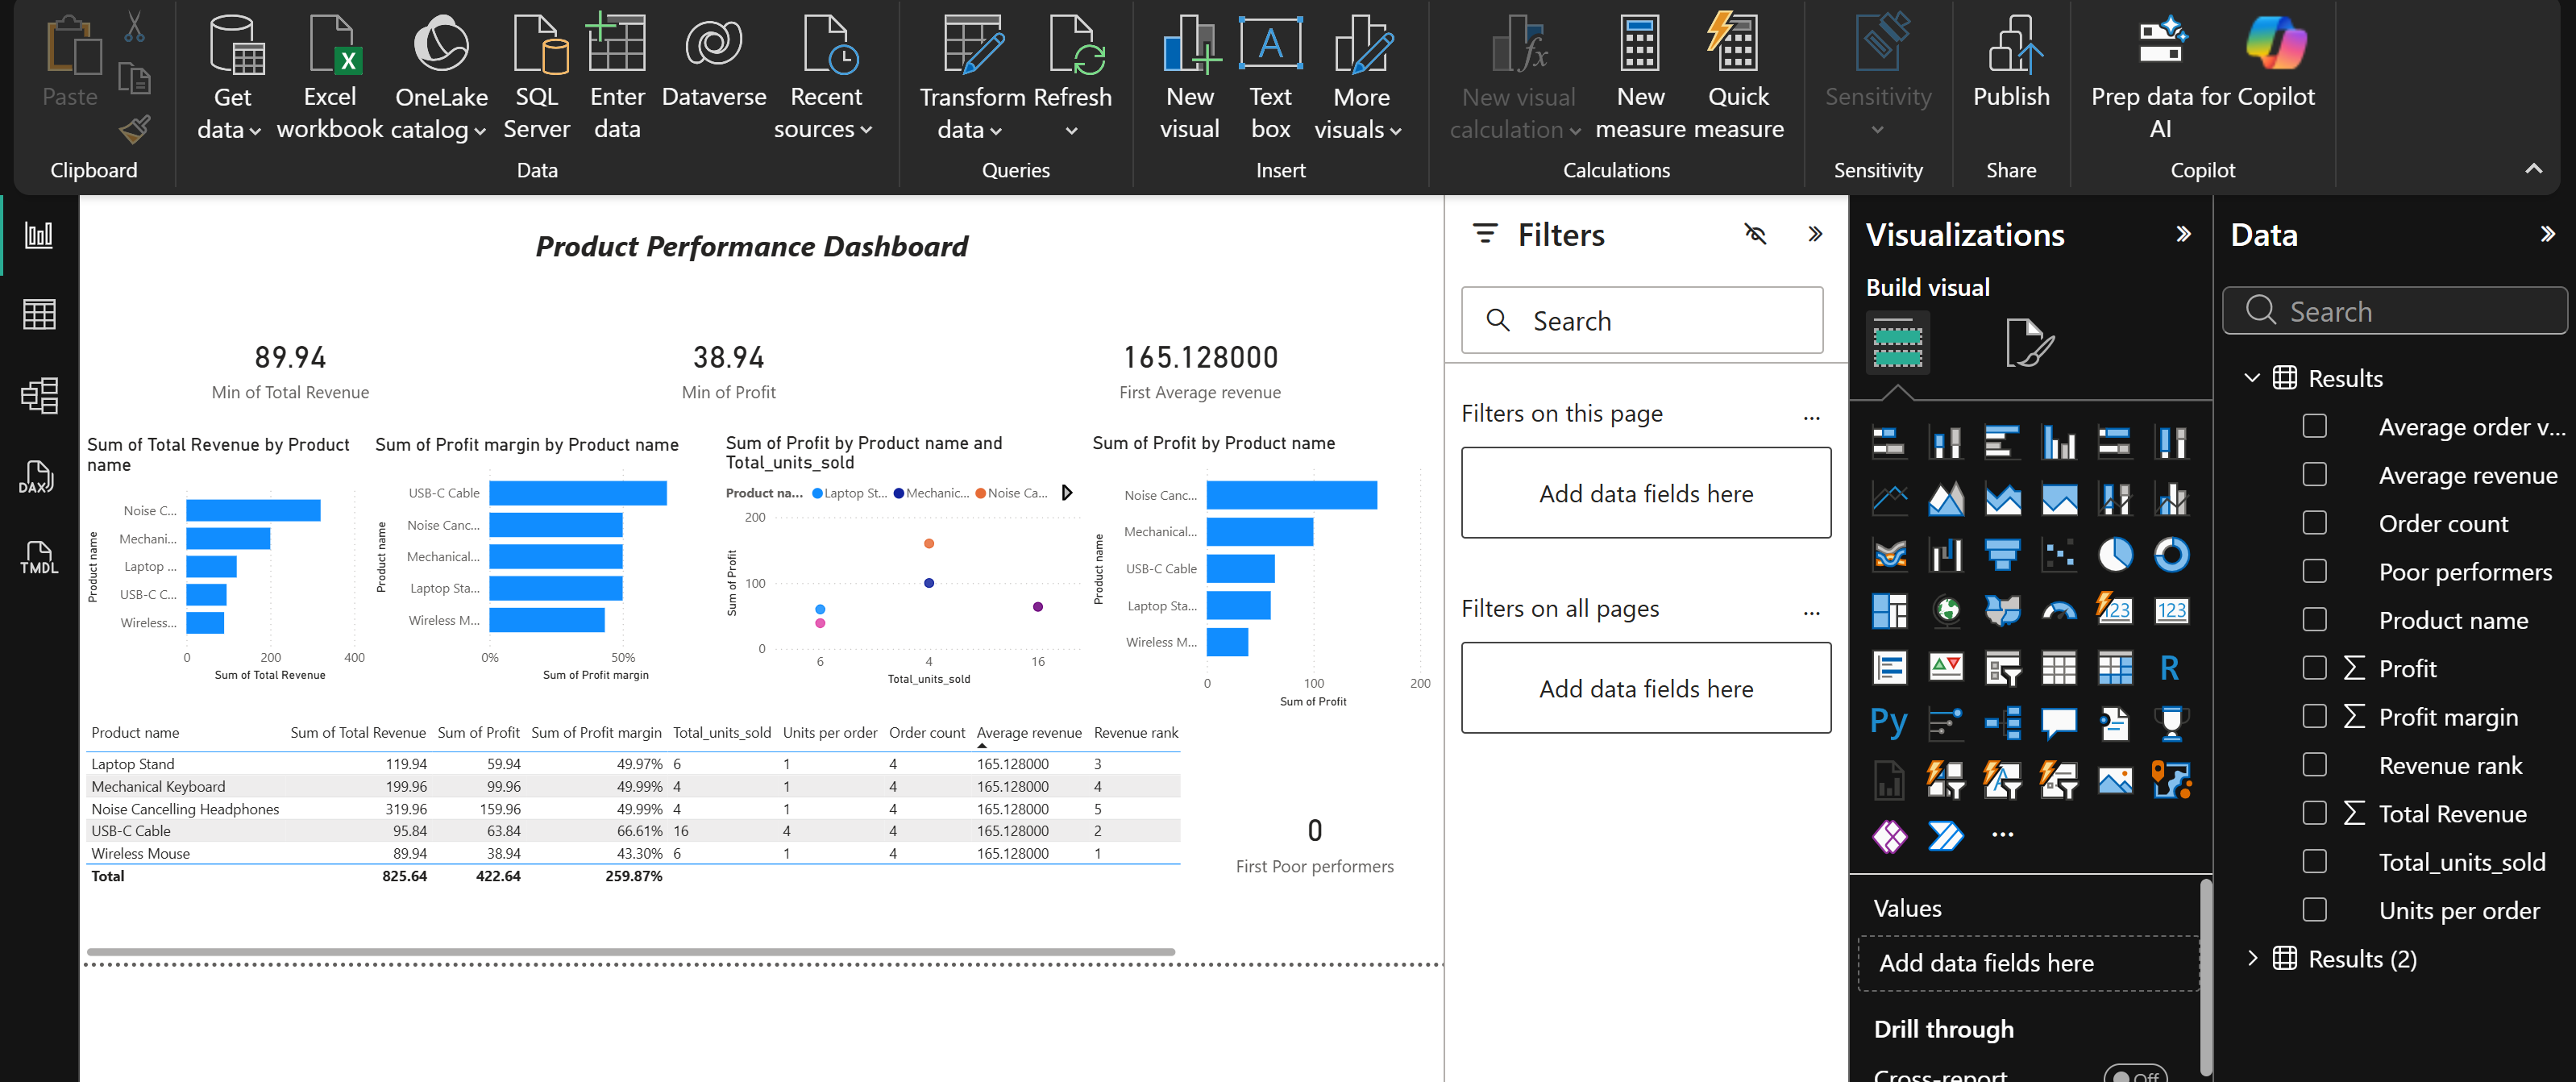

This screenshot's page, from the dashboard's own definition file:
{"tool":"powerbi","page":{"name":"Page 1","canvas":[1280,720],"ordinal":0},"visuals":[{"type":"card","fields":{"Values":["Min(Results.Total Revenue)"]},"box":[0,96.5,395.3,128.6],"z":0},{"type":"card","fields":{"Values":["Min(Results.Profit)"]},"box":[395.3,96.5,427.4,128.6],"z":1000},{"type":"card","fields":{"Values":["Min(Results.Average revenue)"]},"box":[822.7,96.5,457.7,128.6],"z":2000},{"type":"card","fields":{"Values":["Min(Results.Poor performers)"]},"box":[1038.3,489.8,242.1,230.7],"z":3000},{"type":"clusteredBarChart","fields":{"Category":["Results.Product name"],"Y":["Sum(Results.Total Revenue)"]},"box":[1.9,225.1,270.5,236.4],"z":4000},{"type":"clusteredBarChart","fields":{"Category":["Results.Product name"],"Y":["Sum(Results.Profit)"]},"box":[945.6,223.2,327.2,262.9],"z":5000},{"type":"clusteredBarChart","fields":{"Category":["Results.Product name"],"Y":["Sum(Results.Profit margin)"]},"box":[272.3,225.1,329.1,236.4],"z":6000},{"type":"scatterChart","fields":{"Y":["Sum(Results.Profit)"],"X":["Results.Total_units_sold"],"Series":["Results.Product name"]},"box":[601.4,223.2,344.2,242.1],"z":7000},{"type":"tableEx","fields":{"Values":["Results.Product name","Sum(Results.Total Revenue)","Sum(Results.Profit)","Sum(Results.Profit margin)","Results.Total_units_sold","Results.Units per order","Results.Order count","Results.Average revenue","Results.Revenue rank"]},"box":[0,489.8,1038.3,230.7],"z":8000},{"type":"textbox","box":[1.9,24.6,1265.3,71.9],"z":8001}]}

Visuals, with their boxes on the page's 1280x720 design canvas (x1, y1, x2, y2). These are canvas units, not pixel positions in the 2576x1082 screenshot, which may show the page scaled, cropped or inside an application window:
card - Min(Results.Total Revenue): box=[0, 96, 395, 225]
card - Min(Results.Profit): box=[395, 96, 823, 225]
card - Min(Results.Average revenue): box=[823, 96, 1280, 225]
card - Min(Results.Poor performers): box=[1038, 490, 1280, 720]
clusteredBarChart - Results.Product name x Sum(Results.Total Revenue): box=[2, 225, 272, 462]
clusteredBarChart - Results.Product name x Sum(Results.Profit): box=[946, 223, 1273, 486]
clusteredBarChart - Results.Product name x Sum(Results.Profit margin): box=[272, 225, 601, 462]
scatterChart - Sum(Results.Profit) x Results.Total_units_sold: box=[601, 223, 946, 465]
tableEx - Results.Product name x Sum(Results.Total Revenue): box=[0, 490, 1038, 720]
textbox: box=[2, 25, 1267, 96]
